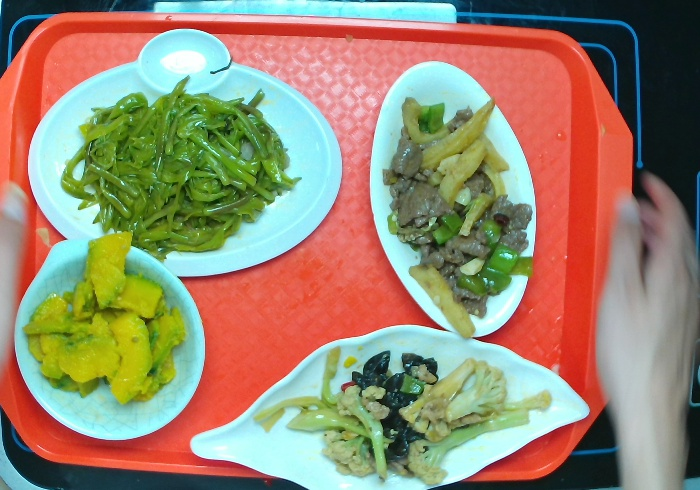RJxy-Bai_Se_Tuo_Yuan: (368, 58, 538, 339)
RJxy-Shu_Ye_Pan: (188, 322, 592, 490)
RJxy-Xiao_Jiao_Yuan_Wan: (11, 238, 207, 442)
RJxy-Zhan_Liao_Pan: (26, 26, 343, 280)
